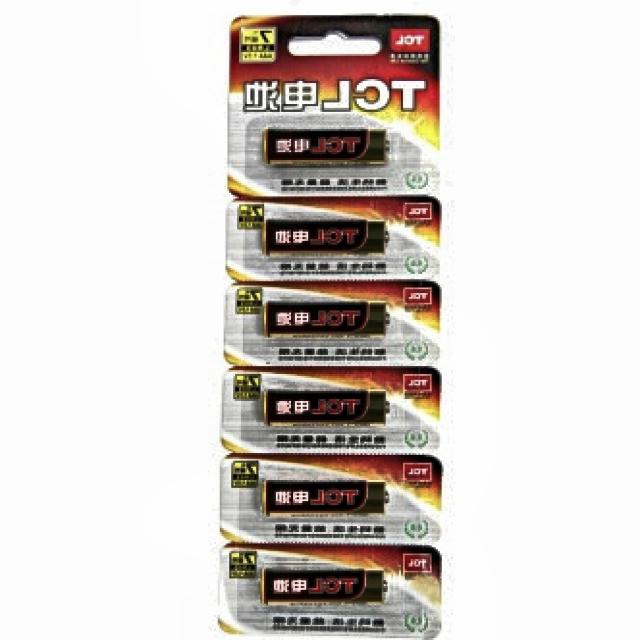Non-Valuable Waste - Batteries: (219, 16, 440, 637)
